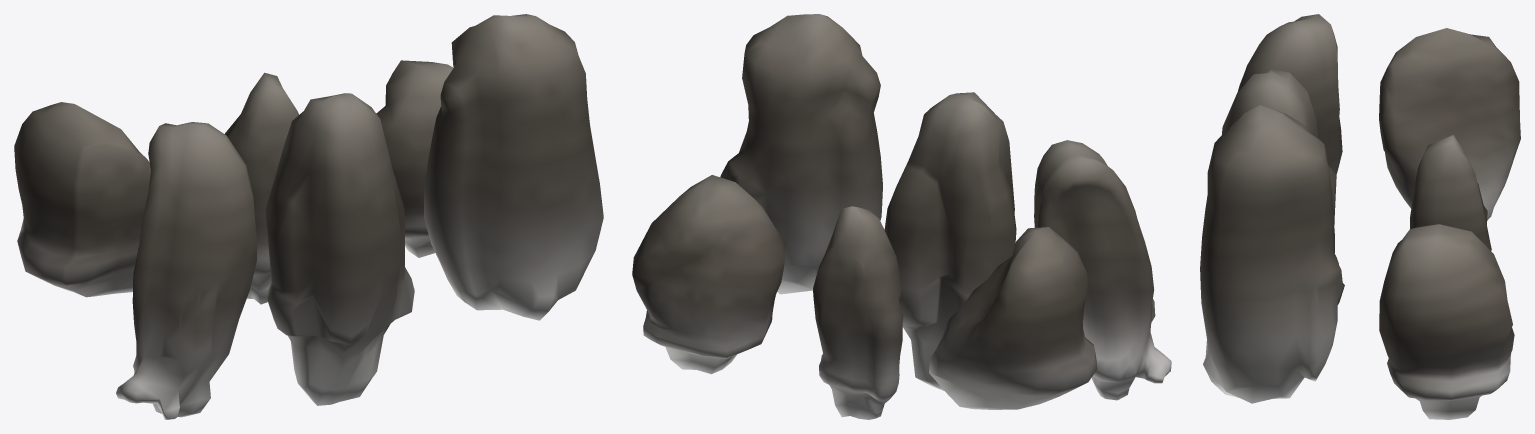
The model's file is M_RockCollection_01.fbx.
The picture shows the model from 3 angles, left to right: view 1: azimuth 30°, elevation 25°; view 2: azimuth 150°, elevation 25°; view 3: azimuth 270°, elevation 25°; orthographic projection. The views are drawn at different scales.
Visible parts, largest first — view 1: M_Environment_StoneL_01, M_Environment_StoneL_02, M_Environment_StoneL_03, M_Environment_StoneL_06, M_Environment_StoneL_04, M_Environment_StoneL_05; view 2: M_Environment_StoneL_01, M_Environment_StoneL_02, M_Environment_StoneL_04, M_Environment_StoneL_06, M_Environment_StoneL_03, M_Environment_StoneL_05; view 3: M_Environment_StoneL_01, M_Environment_StoneL_04, M_Environment_StoneL_06, M_Environment_StoneL_03, M_Environment_StoneL_05, M_Environment_StoneL_02.
Boxes of the visible parts, box(x1,y1,x2,y2) form: M_Environment_StoneL_01: box(424, 14, 603, 320); M_Environment_StoneL_02: box(265, 93, 414, 405); M_Environment_StoneL_03: box(116, 122, 256, 419); M_Environment_StoneL_06: box(14, 102, 150, 297); M_Environment_StoneL_04: box(376, 60, 453, 257); M_Environment_StoneL_05: box(225, 72, 298, 304); M_Environment_StoneL_01: box(720, 14, 882, 294); M_Environment_StoneL_02: box(884, 92, 1016, 390); M_Environment_StoneL_04: box(632, 175, 785, 374); M_Environment_StoneL_06: box(929, 227, 1097, 409); M_Environment_StoneL_03: box(1034, 140, 1171, 400); M_Environment_StoneL_05: box(813, 206, 903, 419); M_Environment_StoneL_01: box(1200, 105, 1344, 403); M_Environment_StoneL_04: box(1379, 224, 1514, 419); M_Environment_StoneL_06: box(1379, 28, 1520, 220); M_Environment_StoneL_03: box(1217, 14, 1342, 174); M_Environment_StoneL_05: box(1410, 135, 1491, 250); M_Environment_StoneL_02: box(1222, 69, 1338, 264).
Size of the model in its own units: 4359 by 3117 by 2678.
